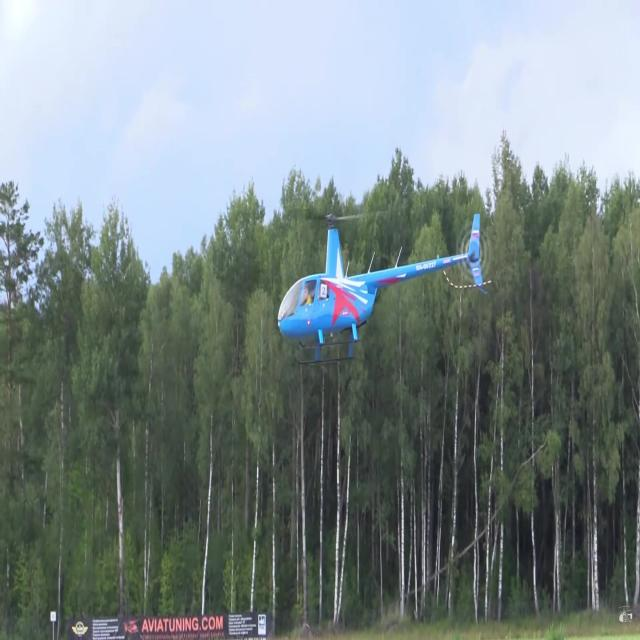CIV_HELO: (276, 211, 489, 367)
